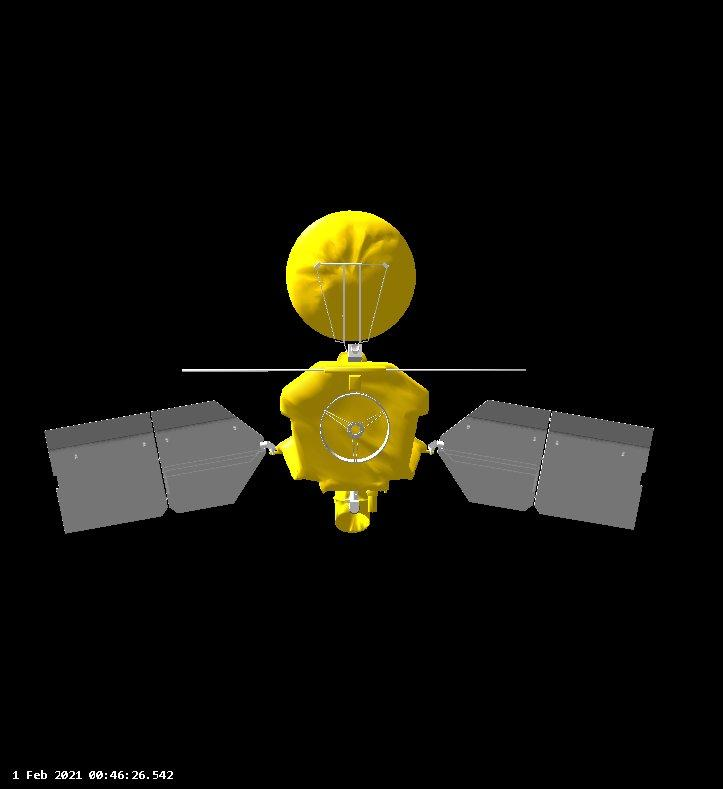antenna: (283, 205, 420, 345)
body: (275, 355, 428, 485)
solar: (32, 393, 274, 538), (433, 392, 661, 534), (174, 363, 532, 380)
